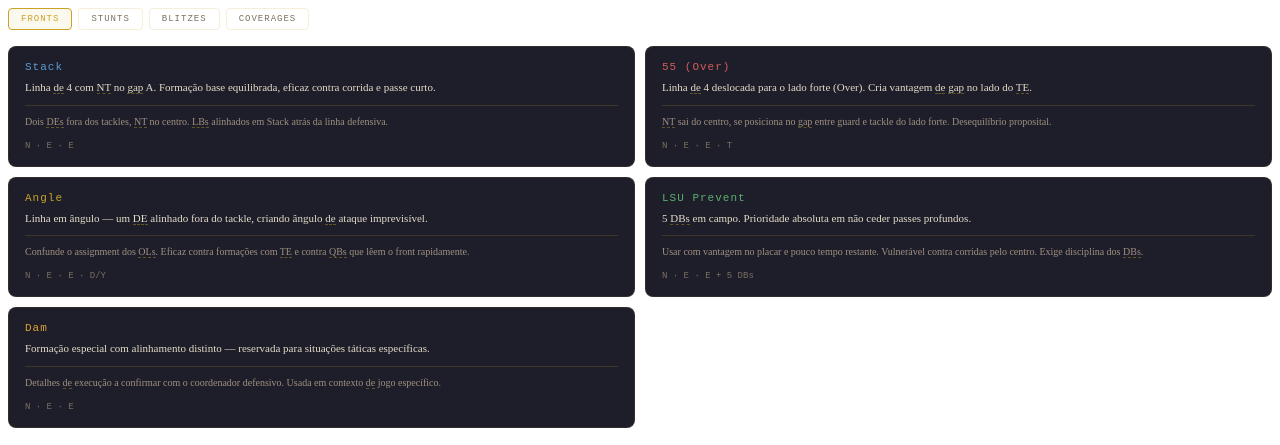
Test: DictionaryTab › muda para STUNTS ao clicar
The image size is (1280, 445).
What coordinates should you click on to do the following:
click the button "STUNTS"
I would click on:
 (111, 19)
Its box is [78,8,143,30].
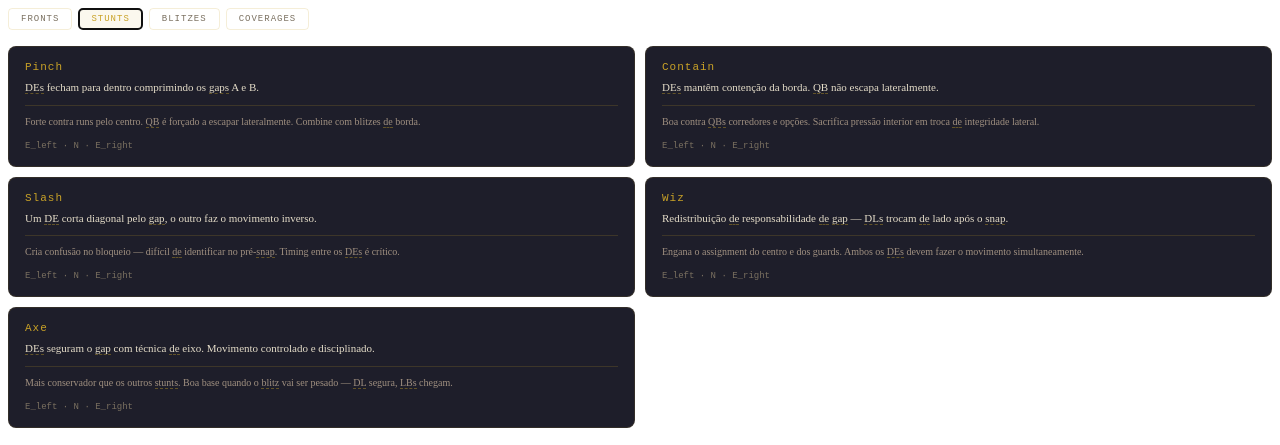
Result: the text "Pinch" is shown at [25,61,63,73]
Result: the text "Contain" is shown at [662,61,715,73]
